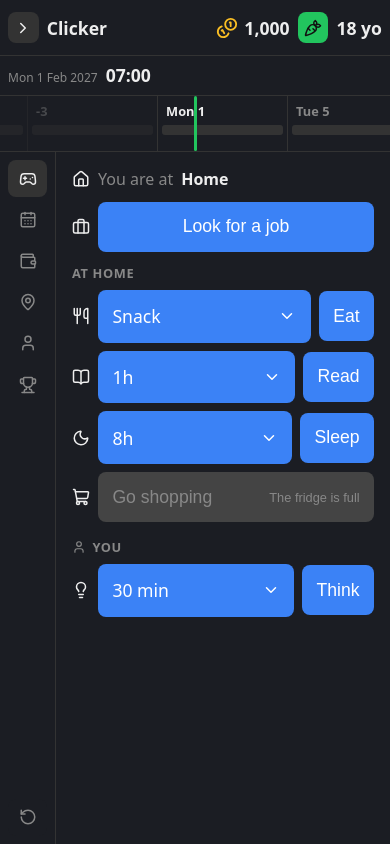
Test case: the menu button opens and closes the gauges sidebar
Click the button named "Menu".
click(23, 28)  # box [8,12,39,43]
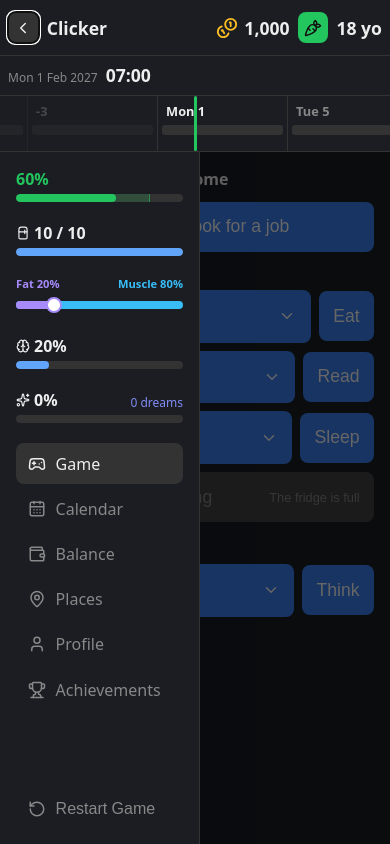
Expected: the button named "Menu" is expanded, [8,12,39,43]
Press Escape
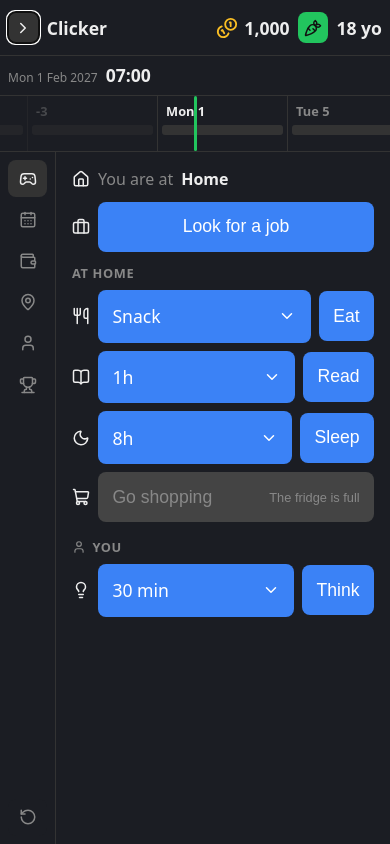
Expected: the button named "Menu" is collapsed, [8,12,39,43]
